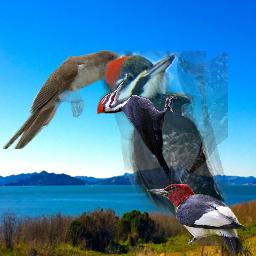Cuckoo: (3, 50, 135, 149)
Woodpecker: (99, 51, 228, 246), (97, 80, 178, 194), (147, 184, 248, 256)
